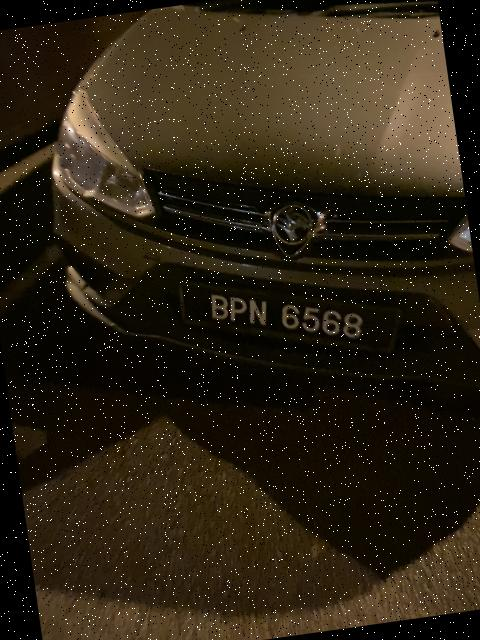License_Plate: (174, 250, 411, 393)
car: (12, 1, 480, 468)
